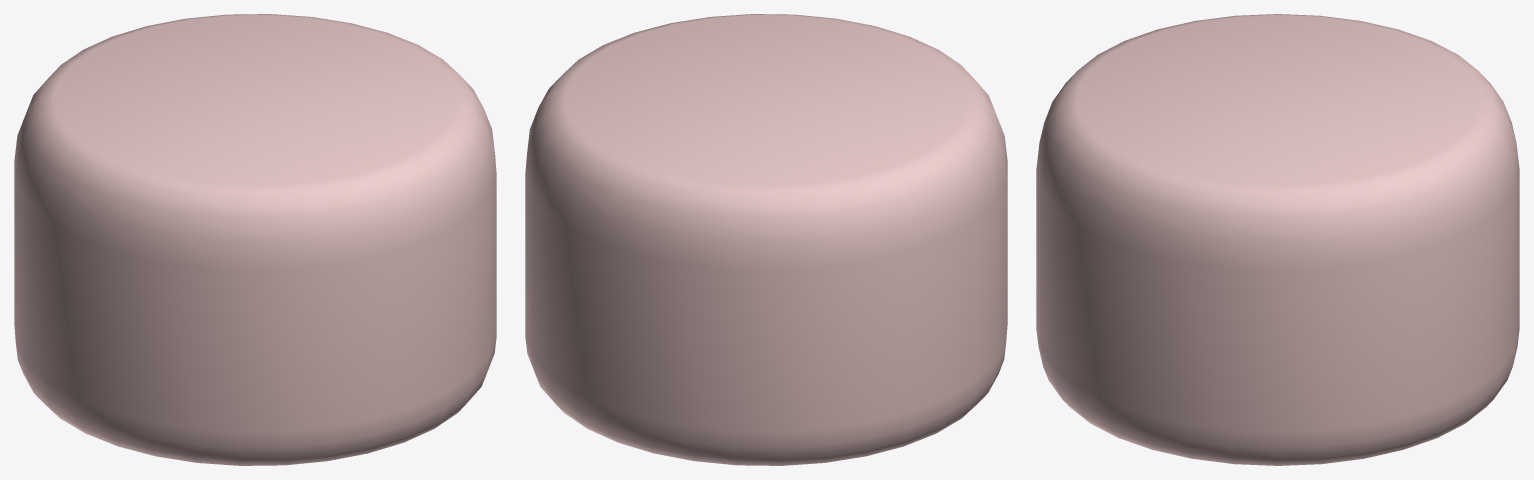
File: Маленькая платформа.fbx
3 renders of one model, left to right at view 1: azimuth 30°, elevation 25°; view 2: azimuth 150°, elevation 25°; view 3: azimuth 270°, elevation 25°, orthographic.
Parts seen in each view (by area): view 1: Circle; view 2: Circle; view 3: Circle.
Part boxes in pixels (box(x1,y1,x2,y2)): Circle: box(14, 14, 496, 465); Circle: box(525, 14, 1007, 465); Circle: box(1036, 14, 1519, 465).
Size of the model in its own units: 0.8 by 0.5 by 0.8.
